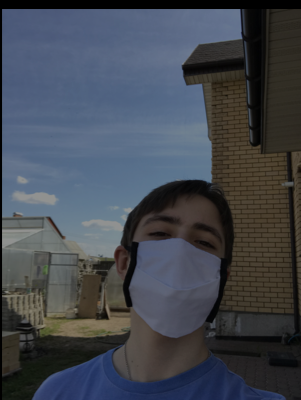with_mask: (122, 212, 227, 339)
